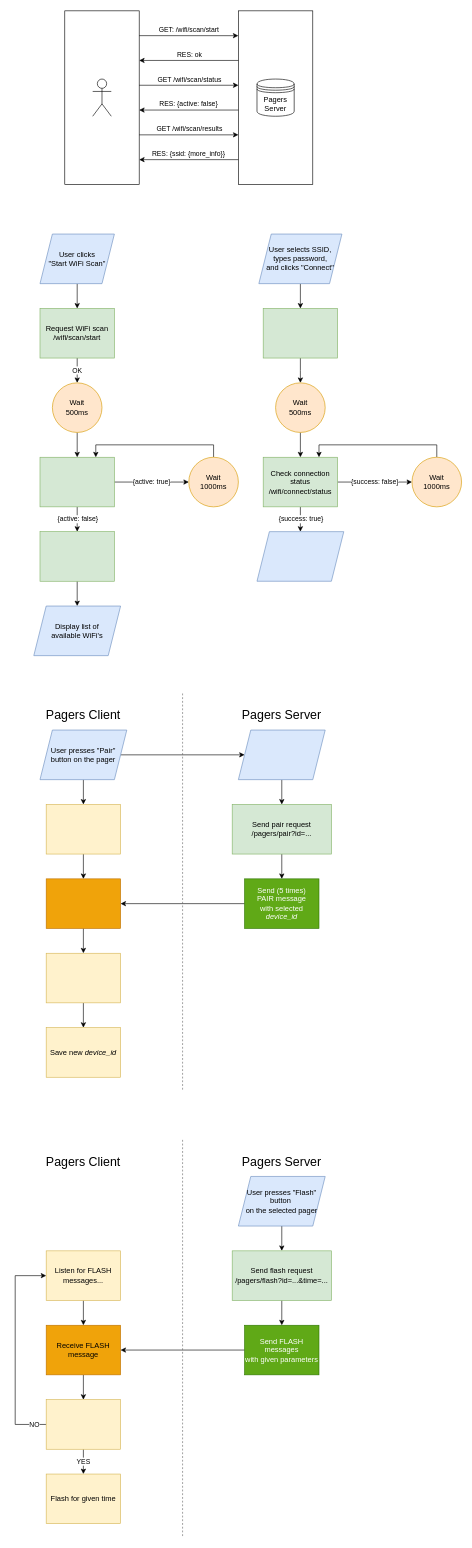
Some shapes in this 472 by 1548 pixel diagram are drawn without their labels. Each missing label, with the centre of its shape:
Check if this client is target receiver?: [83,1424]
Check scan status /wifi/scan/status: [76,482]
Connect to the WiFi /wifi/connect: [300,333]
Display IP to user {ip: xxx.xxx.xxx.xxx}: [300,556]
Enter pairing mode: [83,829]
Exit pairing mode: [83,978]
Get results /wifi/scan/results: [76,556]
HTTP Client: [101,97]
Receive PAIR message: [83,903]
User types ID of the new pager, and presses "Pair" on the web client: [281,754]
